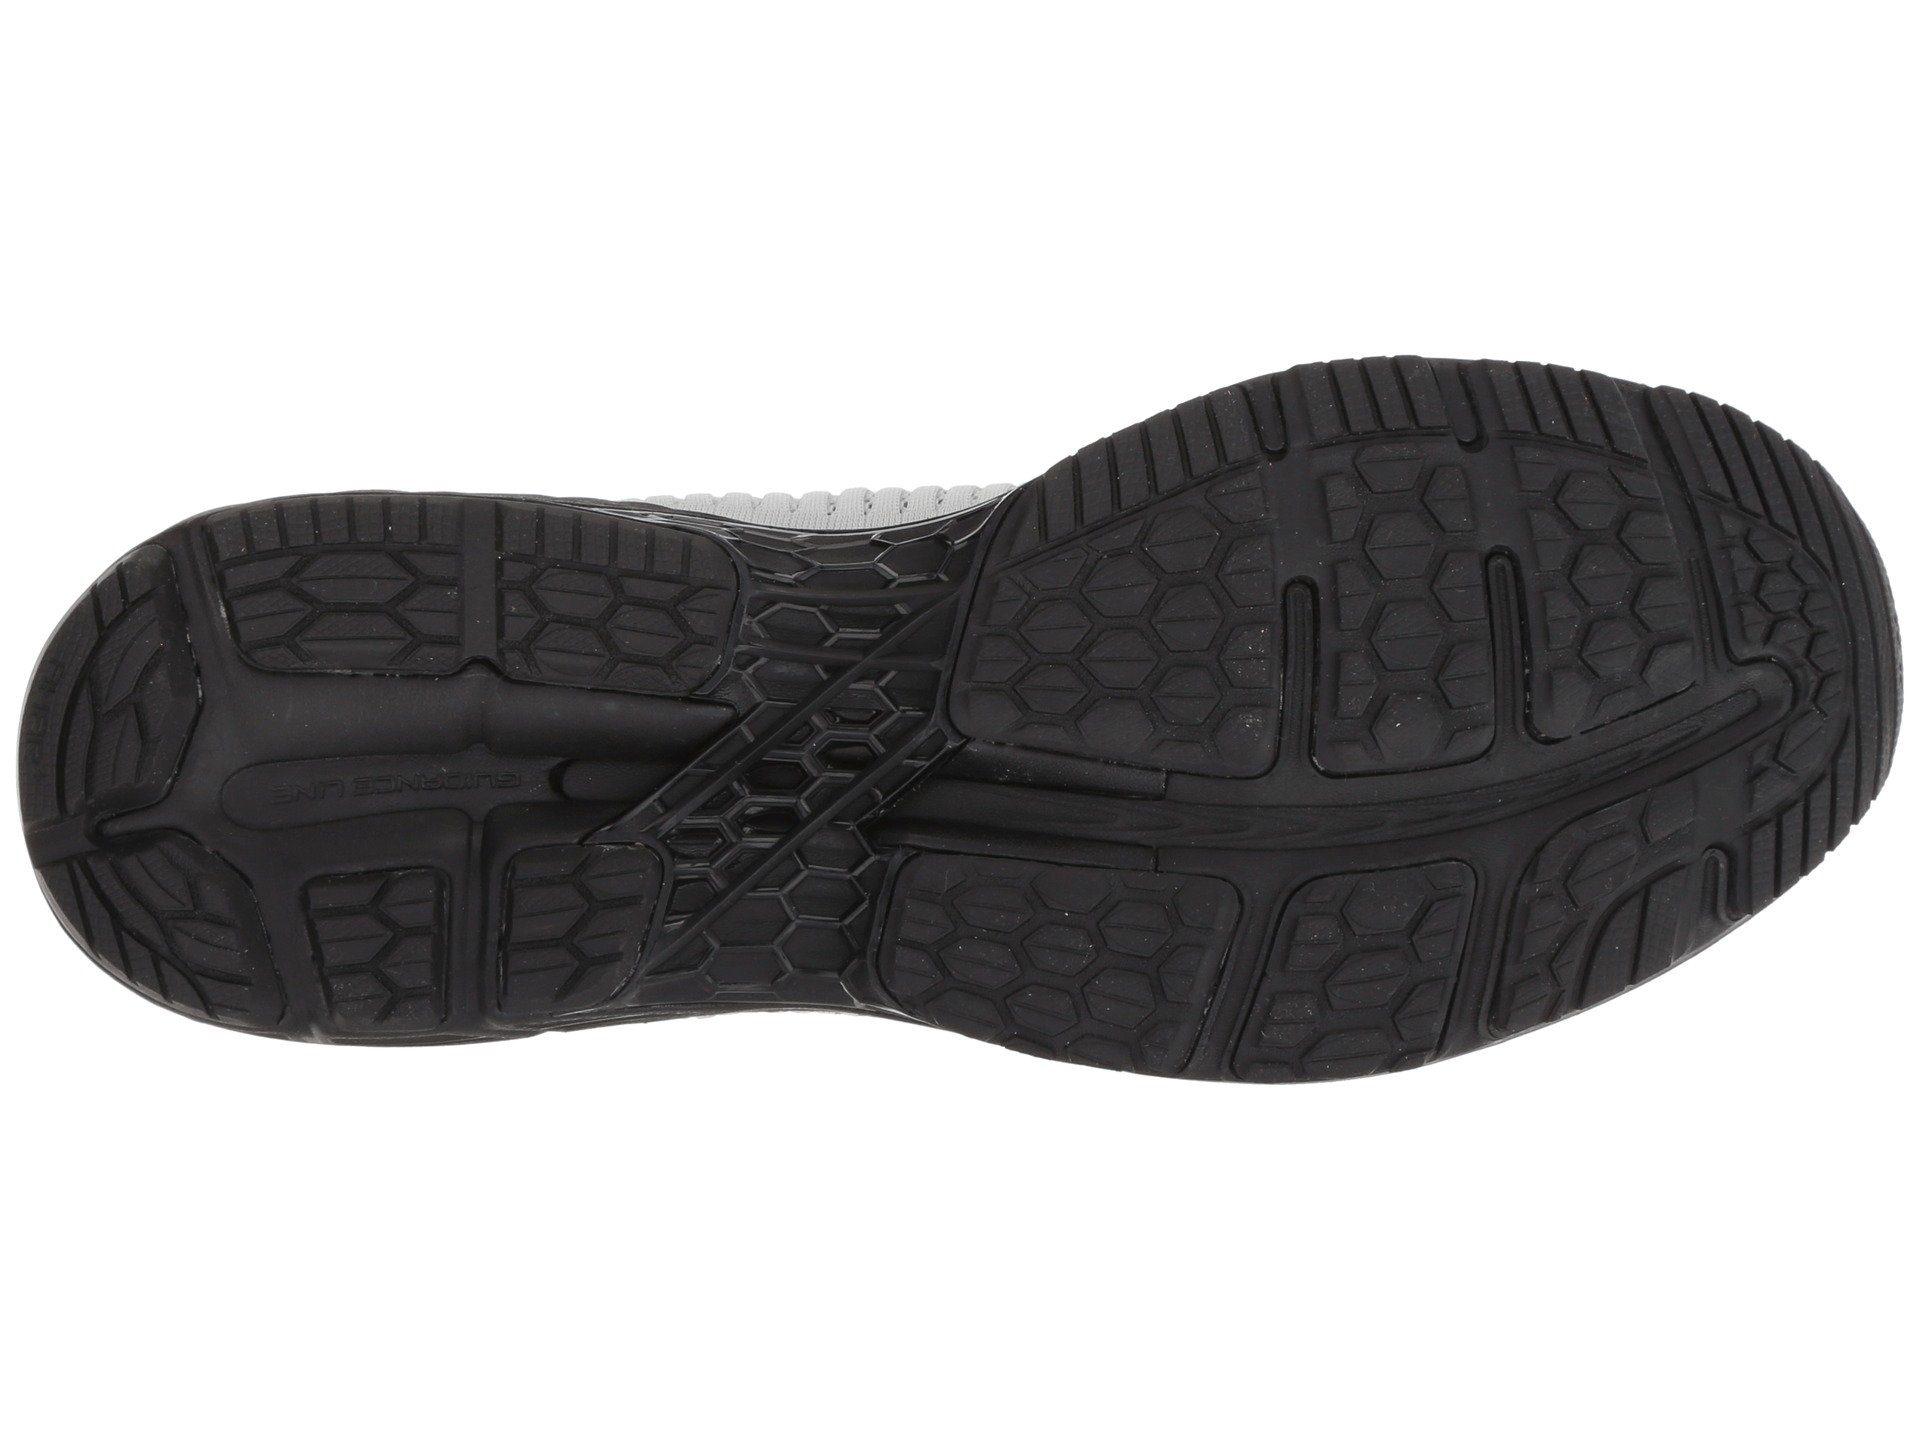polygon: (1067, 185, 1267, 390), (1001, 511, 1181, 709), (1267, 537, 1456, 700), (1305, 123, 1486, 286), (1515, 121, 1661, 278), (525, 210, 664, 331), (1722, 197, 1828, 299)
quad: (1067, 185, 1267, 390), (1001, 511, 1181, 709), (1267, 537, 1456, 700), (1305, 123, 1486, 286), (1515, 121, 1661, 278), (525, 210, 664, 331), (1722, 197, 1828, 299), (1138, 53, 1217, 123)
